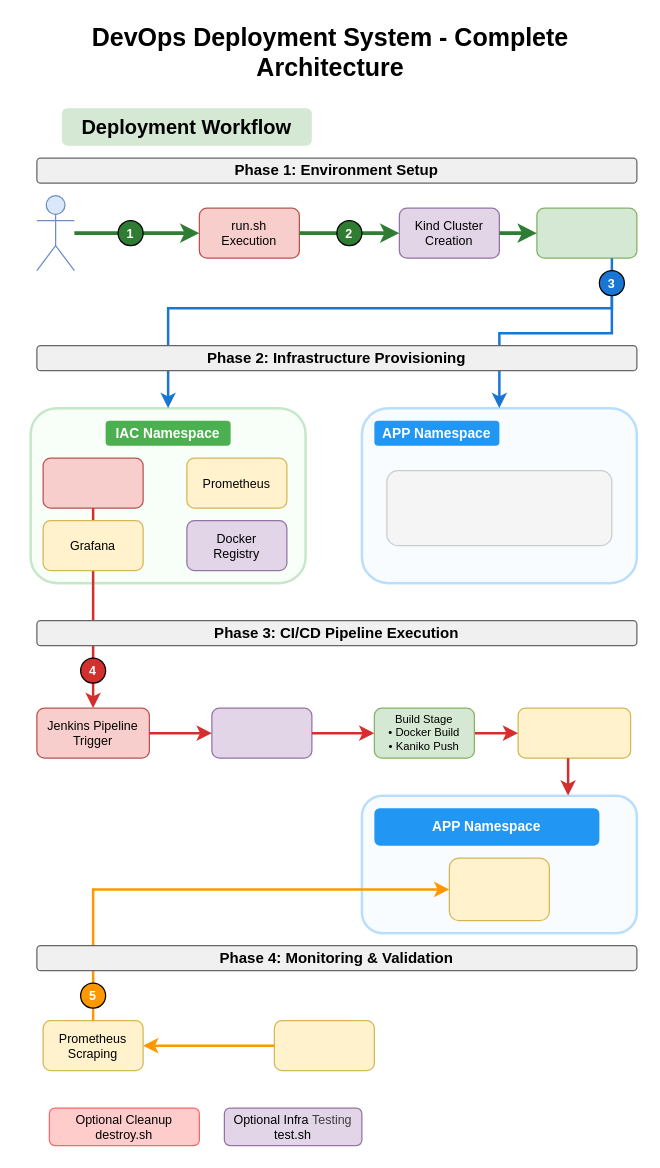
Some shapes in this 660 by 1168 pixel diagram are drawn without their labels. The shapes that lost their labels are listed below. From the top down, each one's centre as x and y in pixels, then its label:
the point at 55,232: Developer
the point at 586,232: OpenTofu Apply
the point at 92,482: Jenkins
the point at 499,507: Initially Empty (Deployed by Jenkins)
the point at 261,732: Test Stage • npm test
the point at 574,732: Deploy Stage • Helm Deploy
the point at 498,889: Hello Buddy App POD
the point at 323,1045: Grafana Visualization
